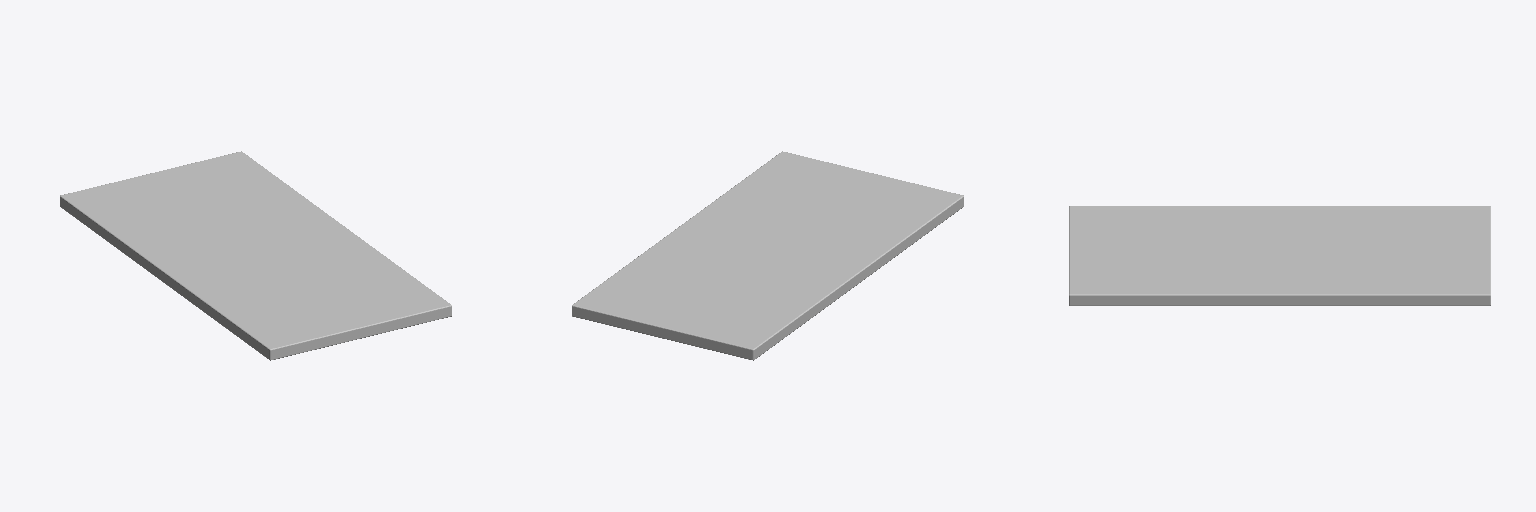
Rendered from 100х50х3 слева вертикаль плита.obj.
The picture shows the model from 3 angles: view 1: azimuth 30°, elevation 25°; view 2: azimuth 150°, elevation 25°; view 3: azimuth 270°, elevation 25°; orthographic projection.
Parts seen in each view (by area): view 1: tombstones001; view 2: tombstones001; view 3: tombstones001.
Part boxes in pixels (x1,y1,x2,y2): tombstones001: (60,151,451,360); tombstones001: (572,151,963,360); tombstones001: (1069,206,1490,305).
Bounding box in the file's own units: 50 × 3 × 100.